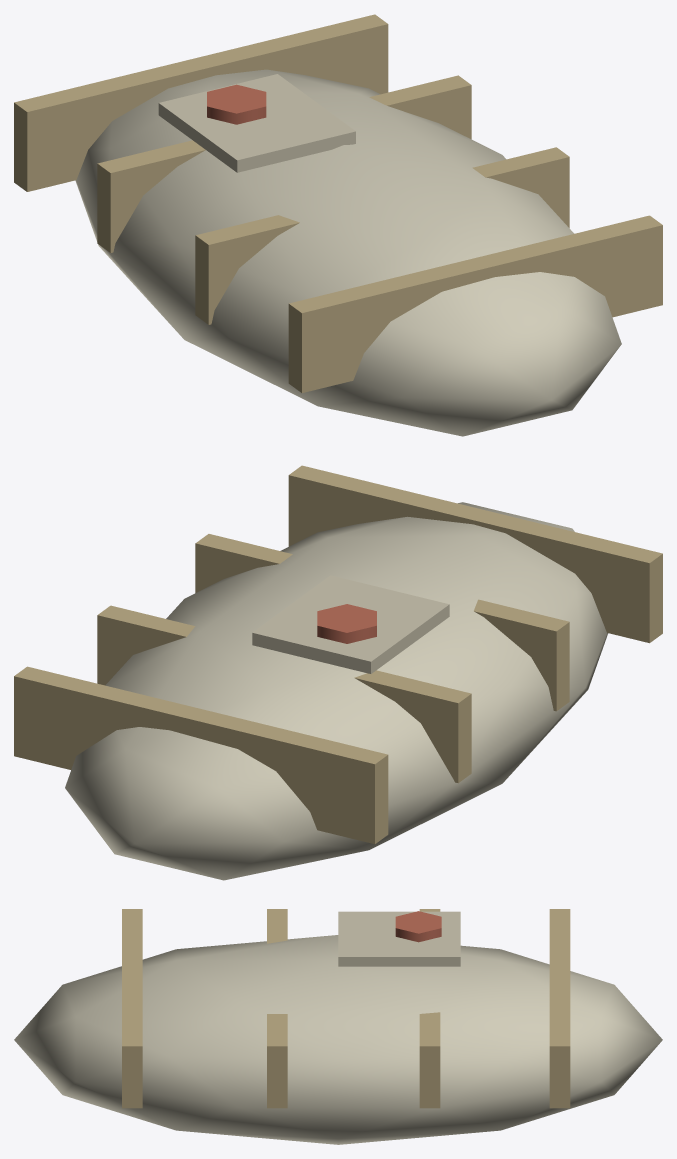
The model's file is spread-portable-sealedbogtakenbody.fbx.
The picture shows the model from 3 angles, top to bottom: view 1: azimuth 30°, elevation 25°; view 2: azimuth 150°, elevation 25°; view 3: azimuth 270°, elevation 25°; orthographic projection. The views are drawn at different scales.
Parts seen in each view (by area): view 1: spread-portable-sealedbogtakenbody__Geometry; view 2: spread-portable-sealedbogtakenbody__Geometry; view 3: spread-portable-sealedbogtakenbody__Geometry.
Part boxes in pixels (x1,y1,x2,y2): spread-portable-sealedbogtakenbody__Geometry: (14, 14, 662, 436); spread-portable-sealedbogtakenbody__Geometry: (14, 465, 662, 880); spread-portable-sealedbogtakenbody__Geometry: (14, 909, 662, 1144).
Size of the model in its own units: 0.425 by 0.2545 by 0.85.
